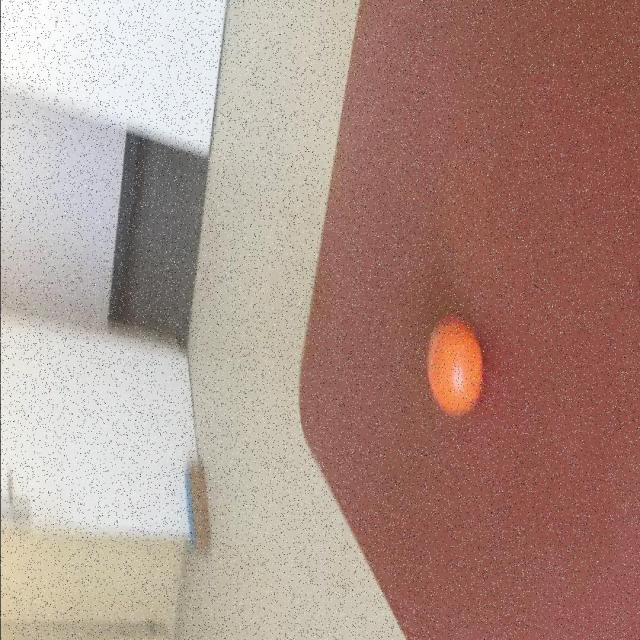Orange: (426, 317, 484, 418)
